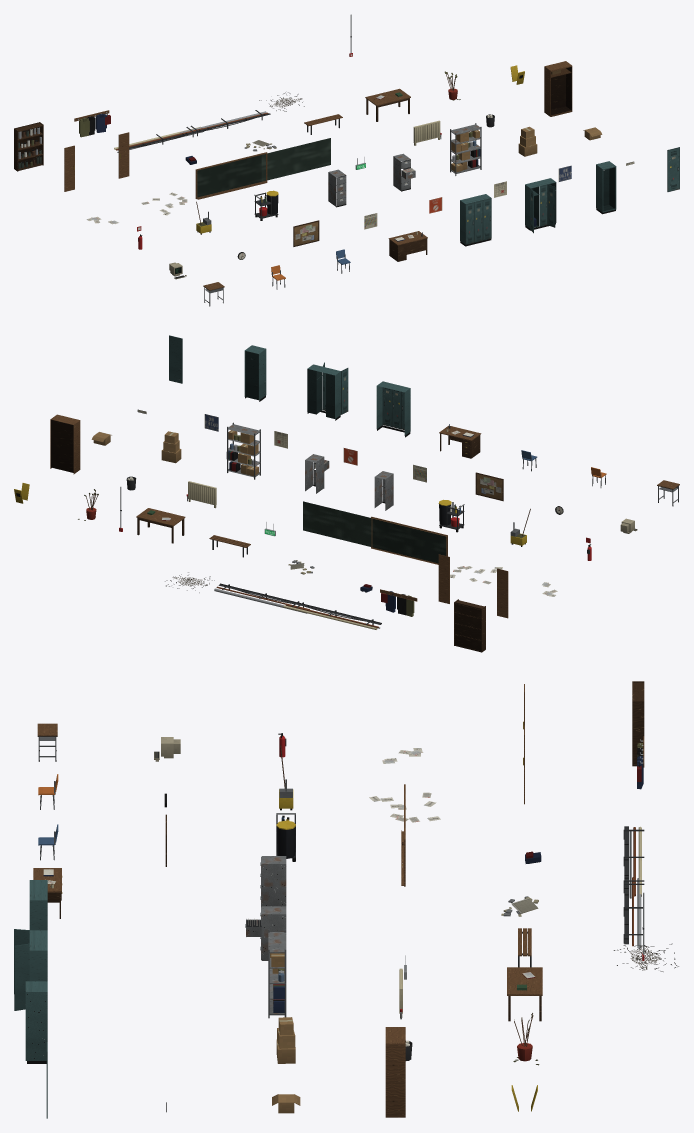
The model's file is props_kit.glb.
3 renders of one model, top to bottom at view 1: azimuth 30°, elevation 25°; view 2: azimuth 150°, elevation 25°; view 3: azimuth 270°, elevation 25°, orthographic. The views are drawn at different scales.
Parts seen in each view (by area): view 1: chalkboard, chalkboard_surface, locker_bank_open, locker_bank, cupboard_tall, storage_shelf, shelf_jars, locker_tall, desk_teacher, filing_cabinet_open, filing_cabinet, coat_hooks (+10 smaller); view 2: chalkboard, chalkboard_surface, locker_bank_open, cupboard_tall, locker_bank, storage_shelf, shelf_jars, locker_tall, ceiling_pipes, desk_teacher, ceiling_pipes_b, table_library (+10 smaller); view 3: locker_bank_open, cupboard_tall, locker_tall, storage_shelf, filing_cabinet, table_library, filing_cabinet_open, ceiling_pipes, locker_bank, shelf_jars, ceiling_pipes_b, box_stack (+2 smaller).
Part boxes in pixels (left/top/right/bottom): chalkboard: left=195, top=152, right=267, bottom=199; chalkboard_surface: left=261, top=138, right=330, bottom=181; locker_bank_open: left=525, top=178, right=556, bottom=233; locker_bank: left=460, top=194, right=491, bottom=246; cupboard_tall: left=544, top=61, right=572, bottom=116; storage_shelf: left=450, top=123, right=481, bottom=175; shelf_jars: left=14, top=122, right=43, bottom=171; locker_tall: left=596, top=161, right=616, bottom=214; desk_teacher: left=388, top=231, right=427, bottom=261; filing_cabinet_open: left=393, top=153, right=415, bottom=191; filing_cabinet: left=328, top=169, right=346, bottom=207; coat_hooks: left=74, top=110, right=110, bottom=137; chalkboard: left=371, top=516, right=447, bottom=564; chalkboard_surface: left=303, top=501, right=372, bottom=546; locker_bank_open: left=307, top=362, right=348, bottom=420; cupboard_tall: left=50, top=414, right=80, bottom=474; locker_bank: left=376, top=381, right=410, bottom=437; storage_shelf: left=226, top=422, right=260, bottom=479; shelf_jars: left=454, top=599, right=485, bottom=652; locker_tall: left=244, top=345, right=266, bottom=401; ceiling_pipes: left=283, top=600, right=381, bottom=629; desk_teacher: left=439, top=424, right=481, bottom=458; ceiling_pipes_b: left=214, top=583, right=310, bottom=613; table_library: left=136, top=508, right=185, bottom=543; locker_bank_open: left=14, top=929, right=47, bottom=1010; cupboard_tall: left=385, top=1027, right=405, bottom=1117; locker_tall: left=25, top=981, right=47, bottom=1063; storage_shelf: left=268, top=929, right=286, bottom=1018; filing_cabinet: left=260, top=856, right=286, bottom=907; table_library: left=507, top=967, right=542, bottom=1021; filing_cabinet_open: left=245, top=906, right=286, bottom=960; ceiling_pipes: left=623, top=826, right=644, bottom=898; locker_bank: left=29, top=880, right=47, bottom=930; shelf_jars: left=632, top=681, right=644, bottom=766; ceiling_pipes_b: left=623, top=876, right=644, bottom=948; box_stack: left=276, top=1017, right=295, bottom=1063.
Bounding box in the file's own units: 22.17 × 3.7 × 16.74.
15 materials, 15 textured.
